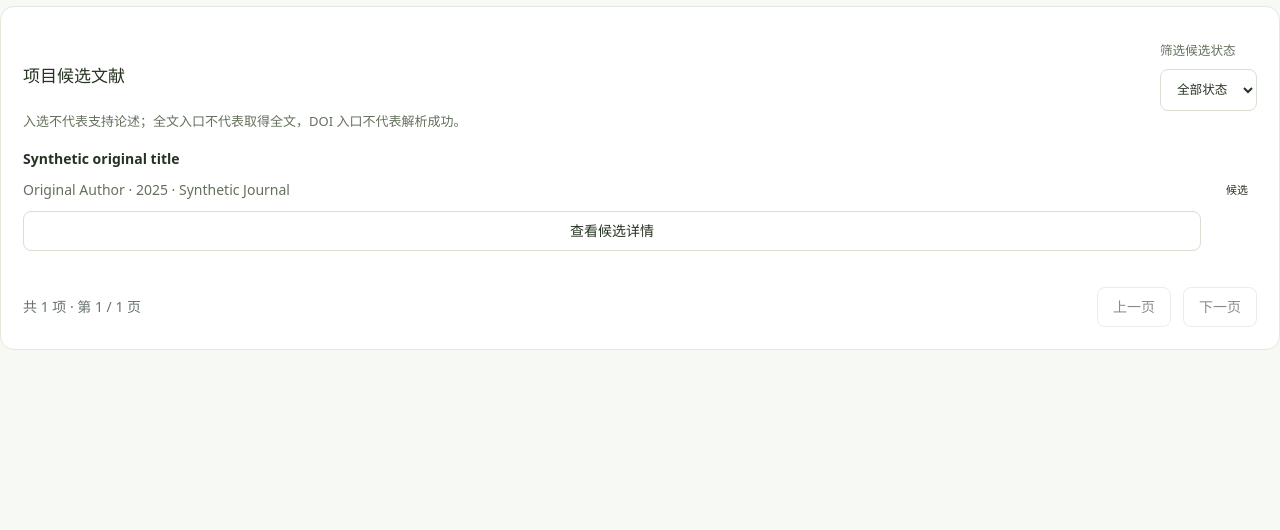
Scenario: appends intentional checks with new keys and marks simulated DOI success prominently
Click the button "查看候选详情" at (612, 231), box [23,211,1201,251]
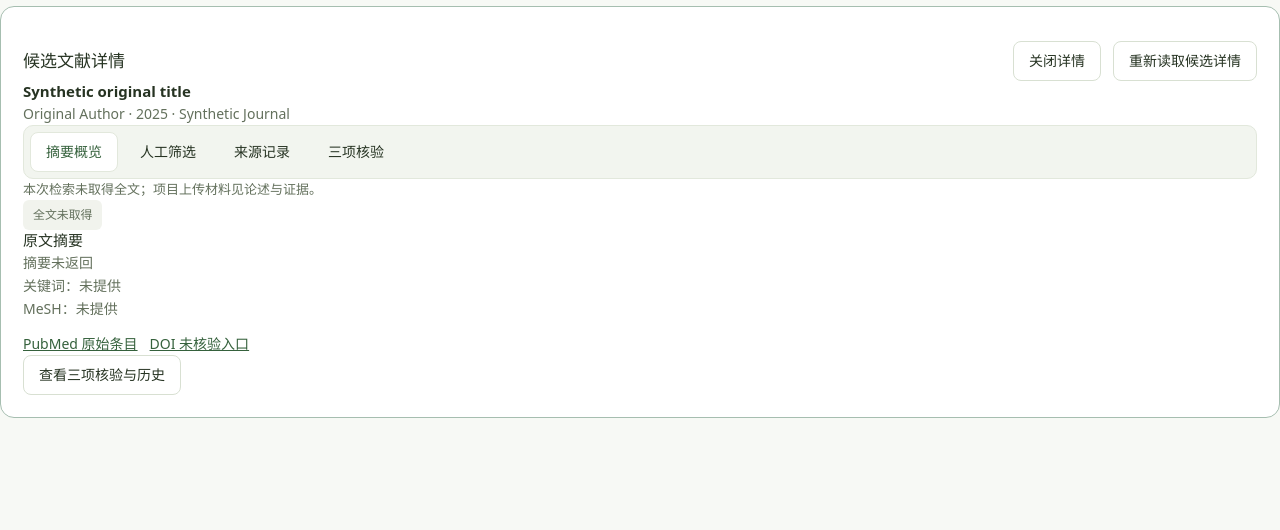
Click the button "查看三项核验与历史" at (102, 375), box [23,355,181,395]
(page scrolled)
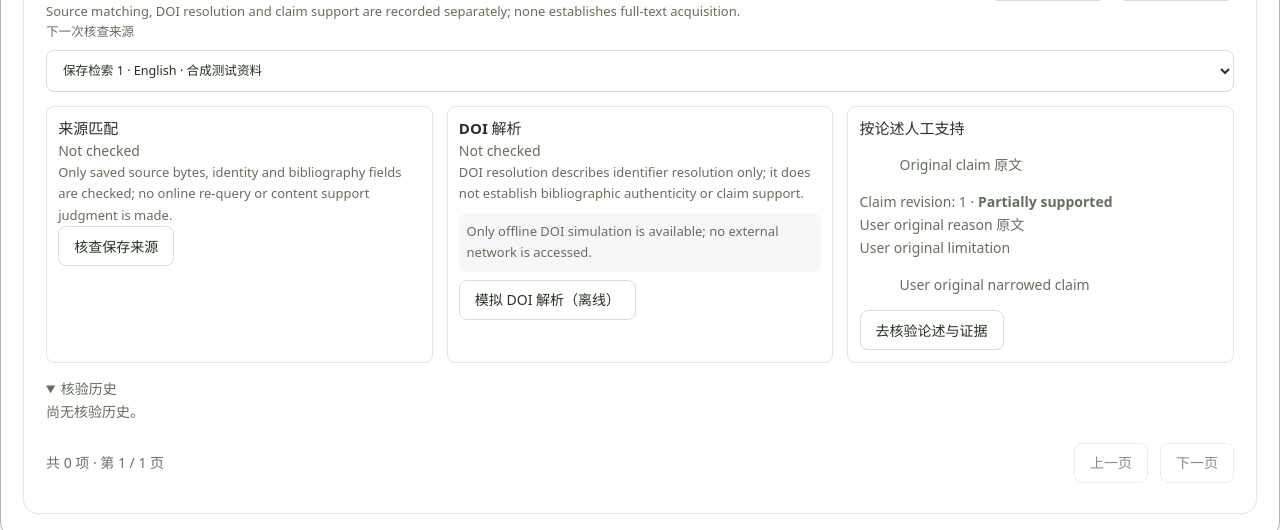
Expected: the button "模拟 DOI 解析（离线）" is enabled
Click the button "模拟 DOI 解析（离线）" at (547, 300), box [459,280,636,320]
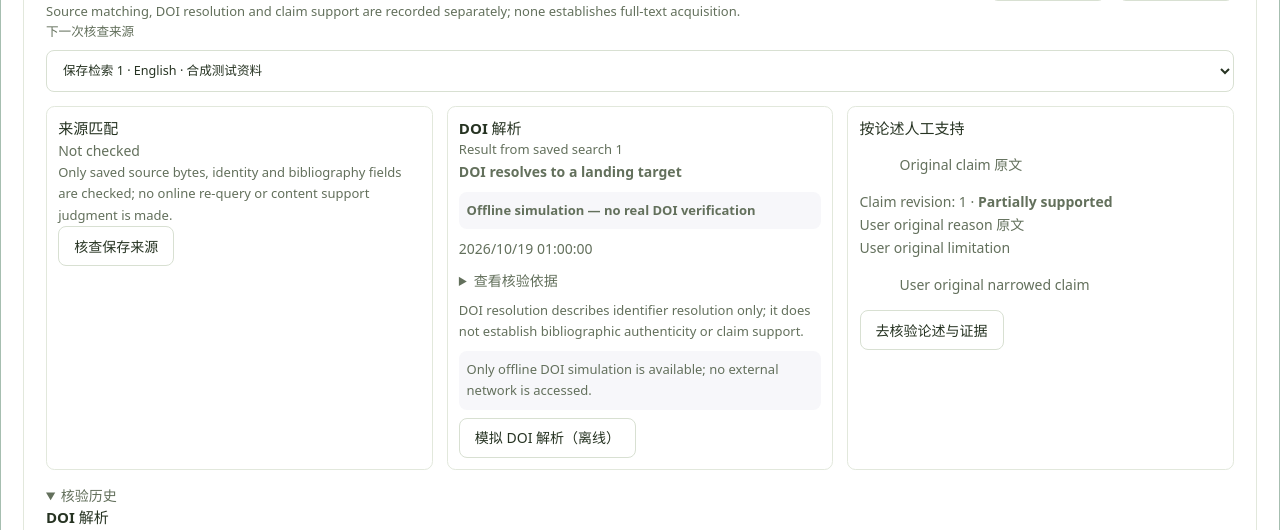
Click the button "模拟 DOI 解析（离线）" at (547, 438), box [459,418,636,458]
(page scrolled)
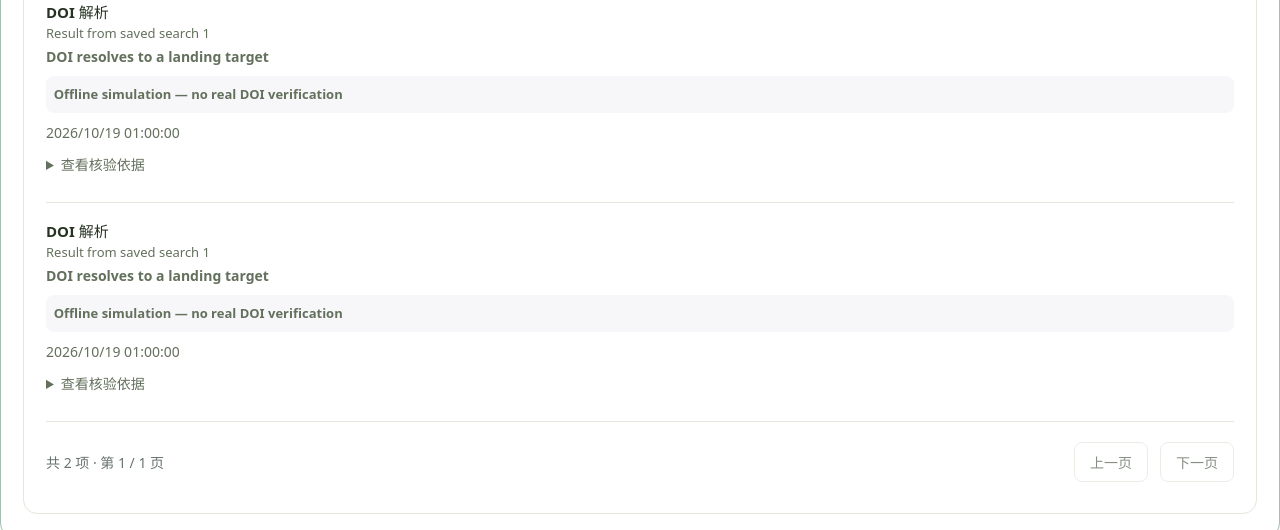
Expected: the text "共 2 项 · 第 1 / 1 页" is shown, [46,451,164,474]
